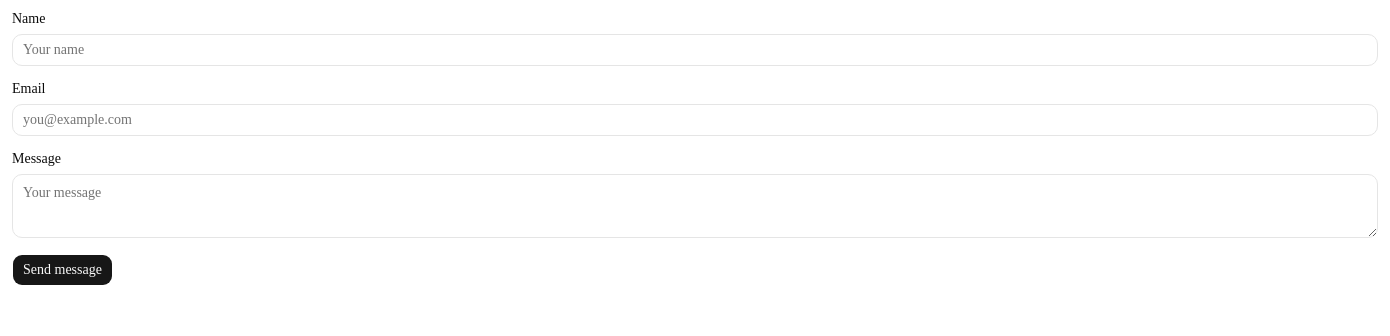
ContactForm › submits valid data to /api/contact and shows success
Type "Alice" into the field labelled "Name" at {"x": 695, "y": 50}, box x1=12 y1=34 x2=1378 y2=66
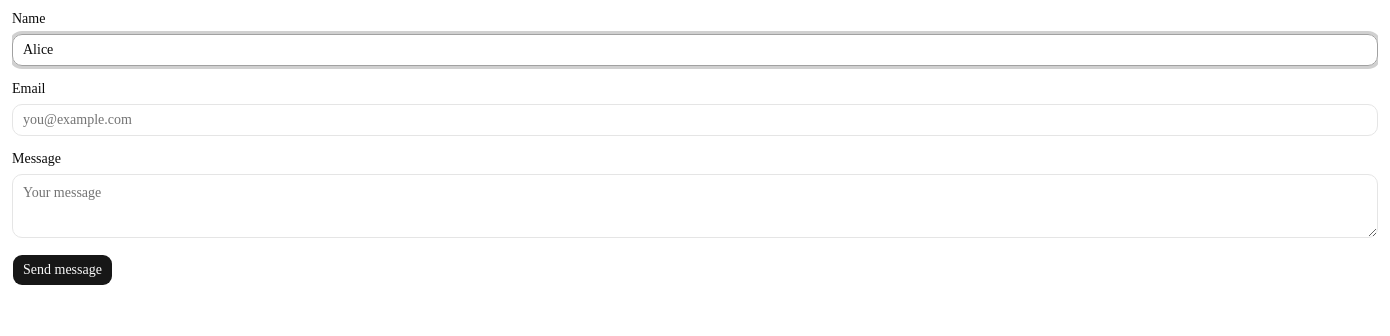
Type "alice@example.com" into the field labelled "Email" at {"x": 695, "y": 120}, box x1=12 y1=104 x2=1378 y2=136
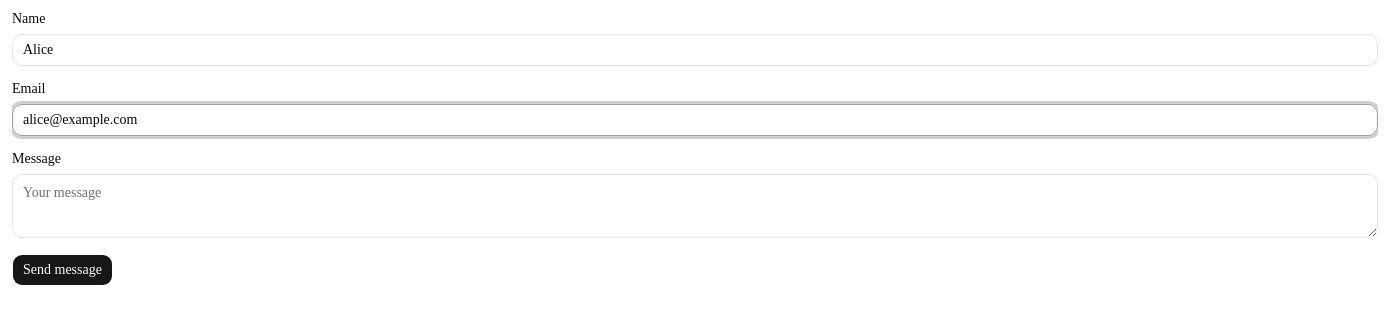
Type "Hello there" into the text box labelled "Message" at {"x": 695, "y": 206}, box x1=12 y1=174 x2=1378 y2=238
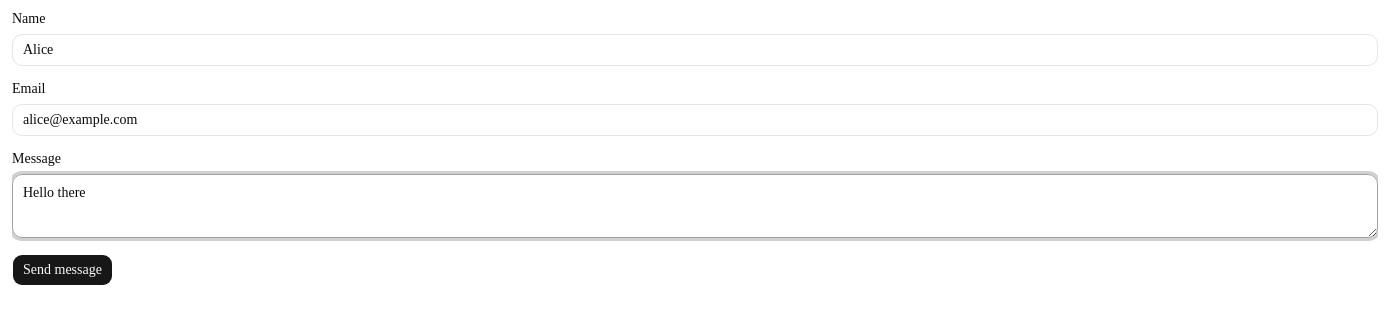
Click the button "Send message" at {"x": 62, "y": 270}, box x1=12 y1=254 x2=113 y2=286
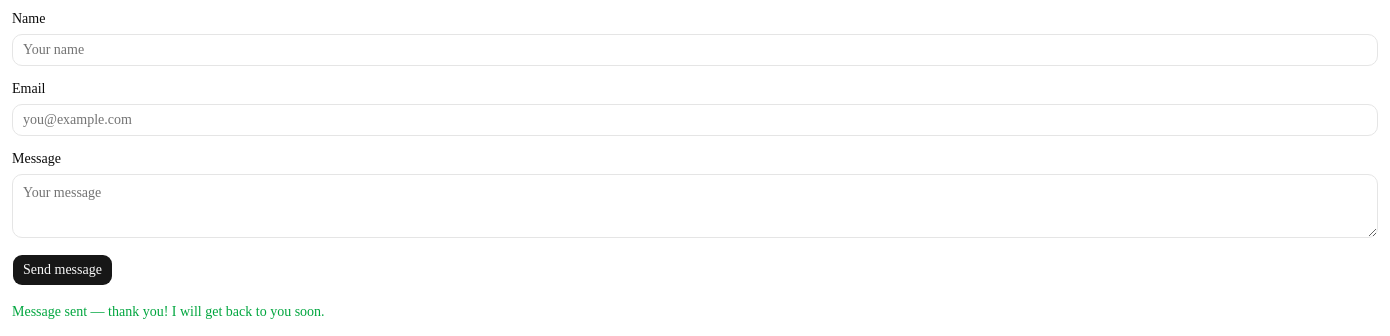
Expected: the text "Message sent — thank you! I will get back to you soon." is shown, x1=12 y1=304 x2=325 y2=319
